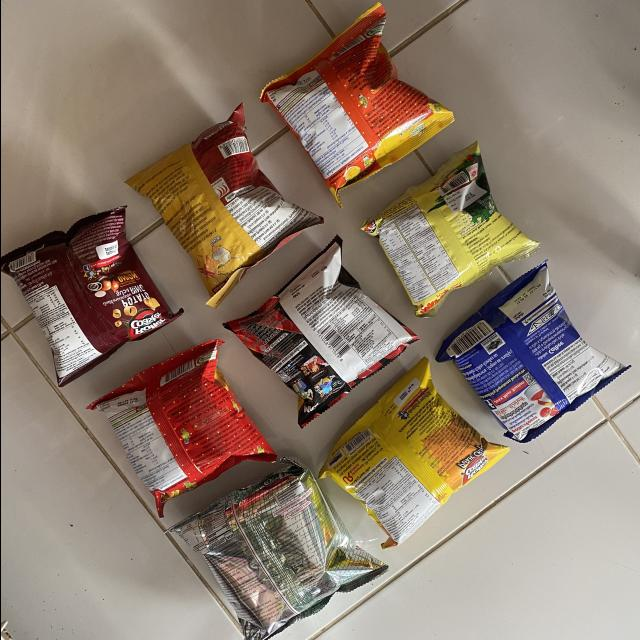plastik: (125, 105, 322, 307), (168, 458, 386, 640), (259, 3, 452, 204), (223, 236, 417, 427), (318, 358, 508, 548), (435, 262, 629, 443), (87, 340, 275, 516), (0, 207, 181, 387), (361, 143, 538, 318)
